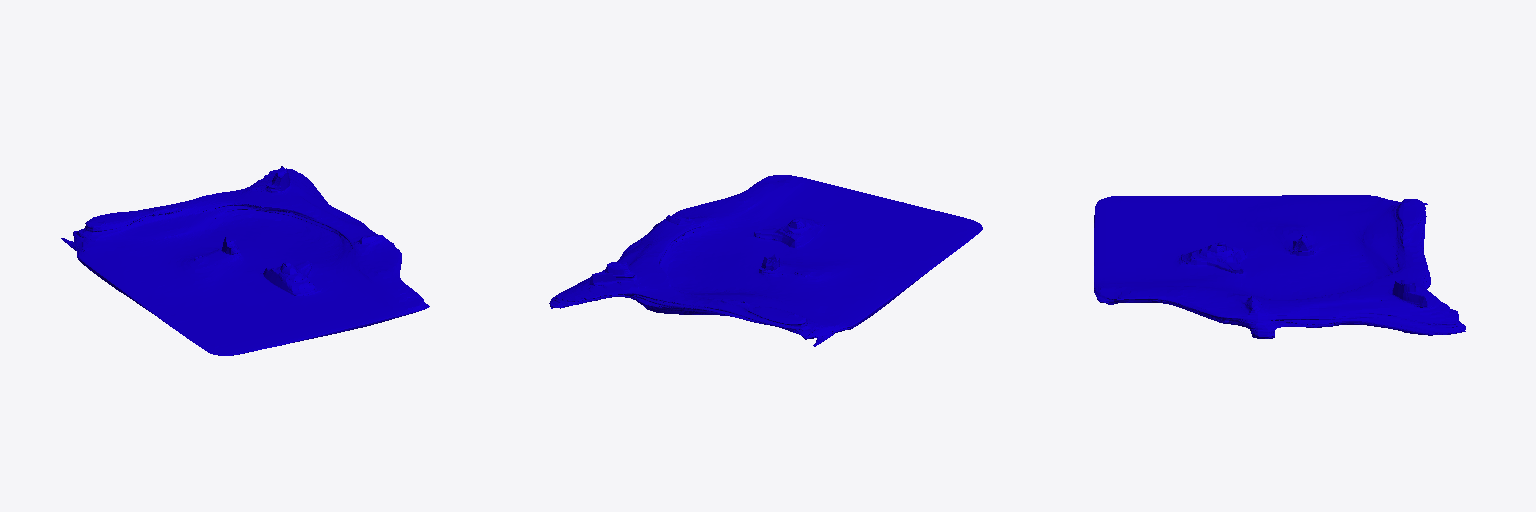
The model's file is simple_Level.obj.
3 views of the same model, side by side, from view 1: azimuth 30°, elevation 25°; view 2: azimuth 150°, elevation 25°; view 3: azimuth 270°, elevation 25° (orthographic).
Parts seen in each view (by area): view 1: Cube; view 2: Cube; view 3: Cube.
Boxes of the visible parts, x1,y1,x2,y2 form: Cube: [61, 166, 429, 355]; Cube: [549, 175, 982, 346]; Cube: [1094, 195, 1465, 338].
Bounding box in the file's own units: 93.44 × 15.31 × 114.